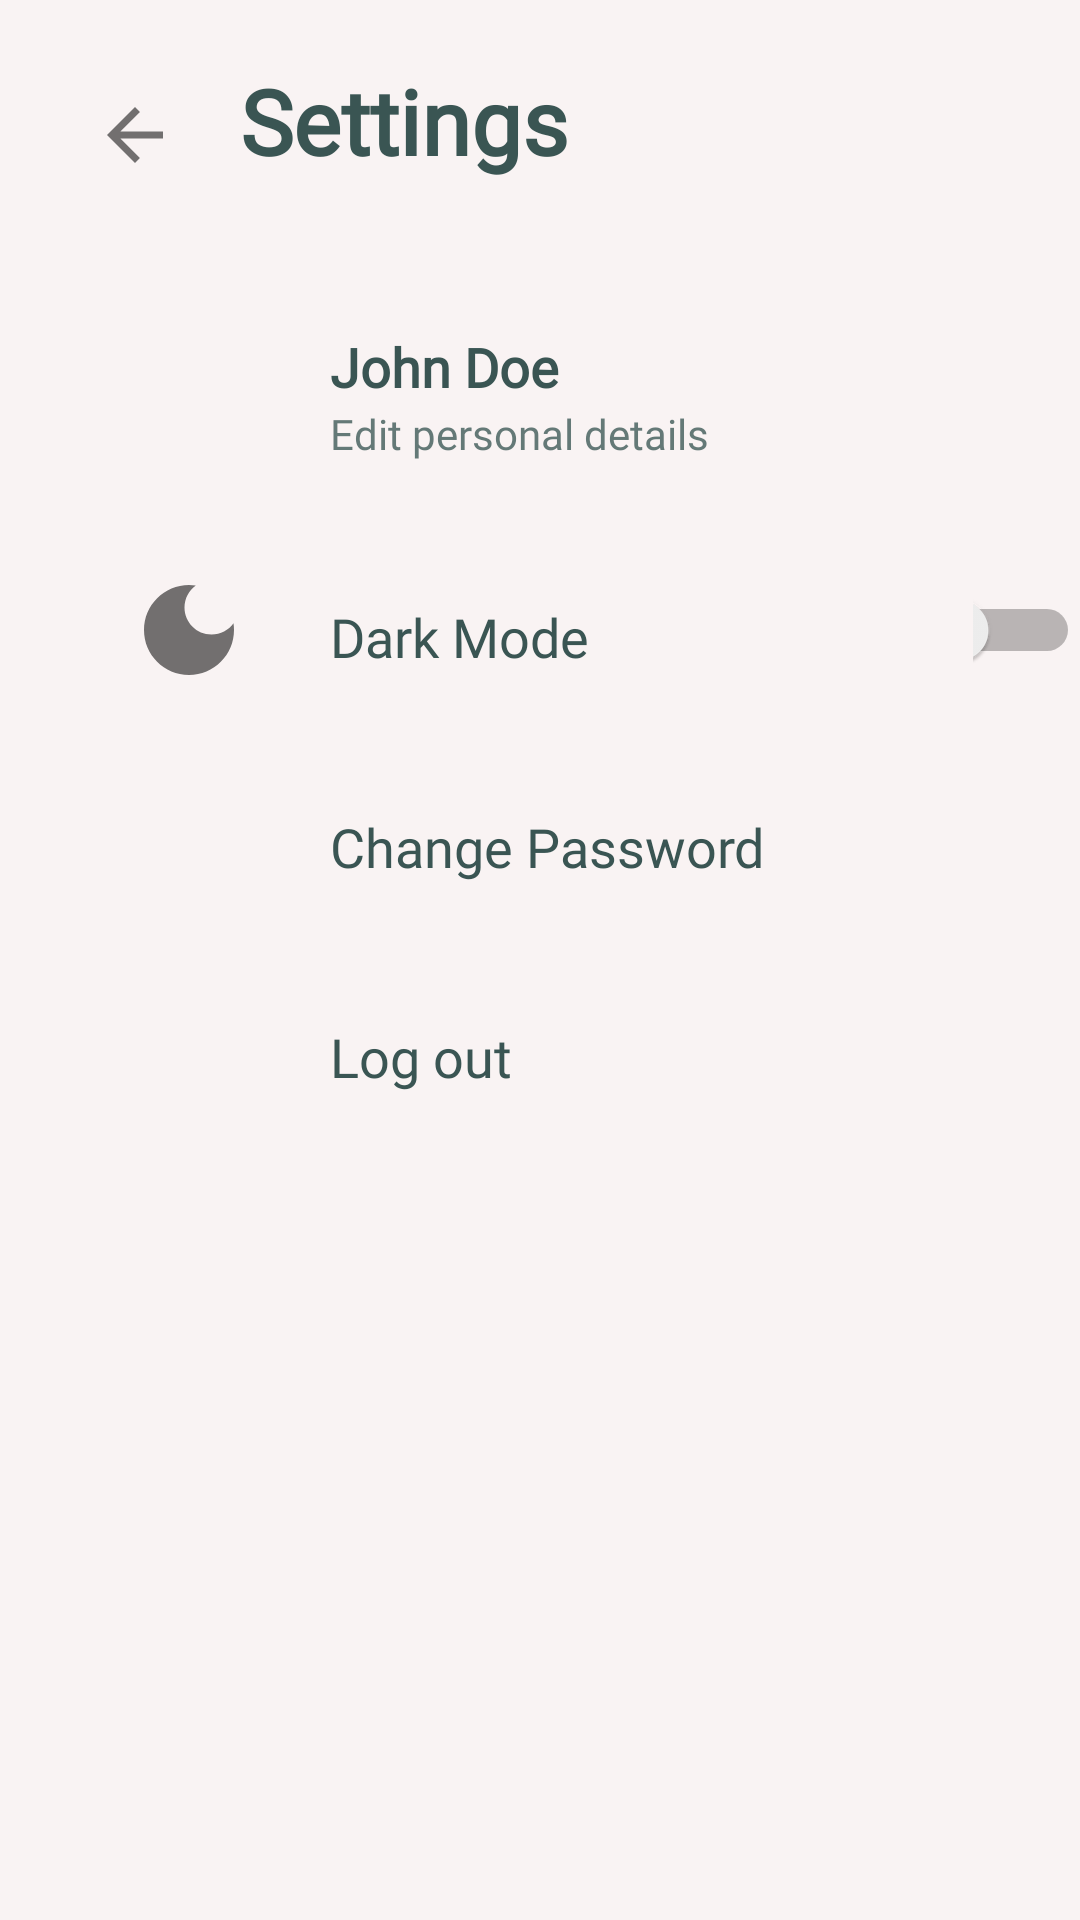

Screen size 1080×1920. Icon name, then its center in pixels as point (x, y):
arrow back: point (135, 135)
